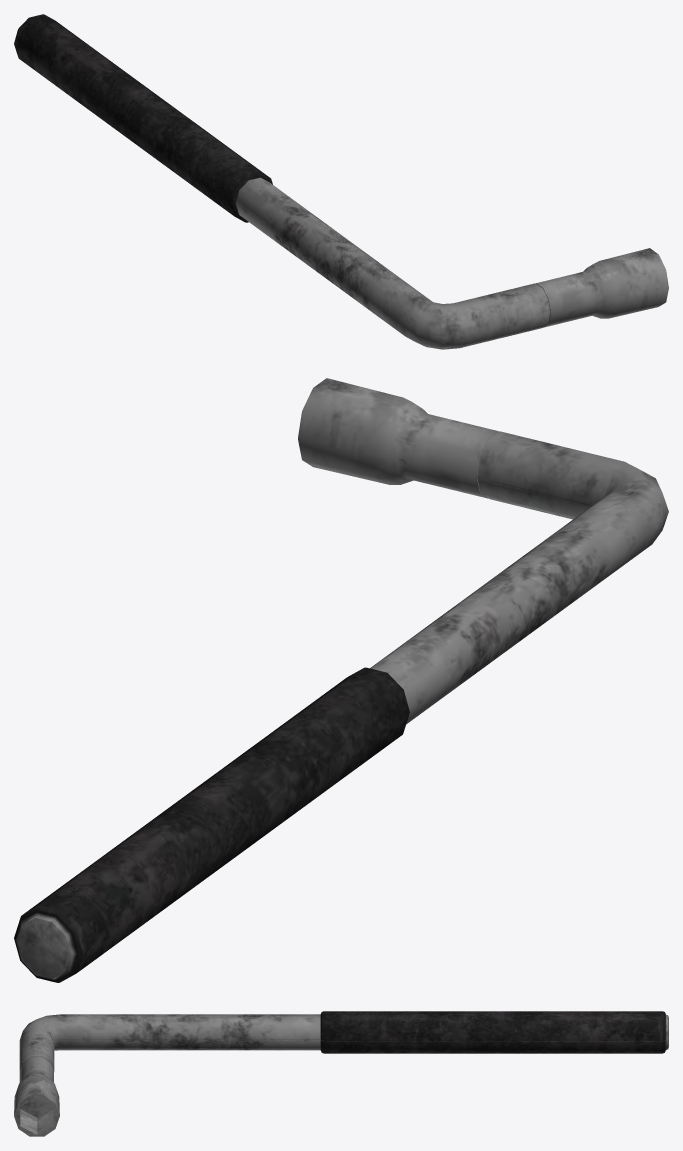
File: tool-tireiron.glb
3 renders of one model, top to bottom at view 1: azimuth 30°, elevation 25°; view 2: azimuth 150°, elevation 25°; view 3: azimuth 270°, elevation 25°, orthographic. The views are drawn at different scales.
Visible parts, largest first — view 1: Tire_Iron; view 2: Tire_Iron; view 3: Tire_Iron.
Part boxes in pixels (<box>): Tire_Iron: <box>14,14,668,349</box>; Tire_Iron: <box>14,378,668,982</box>; Tire_Iron: <box>14,1011,668,1136</box>.
Bounding box in the file's own units: 0.1268 × 0.0262 × 0.3785.
1 material, 1 textured.
